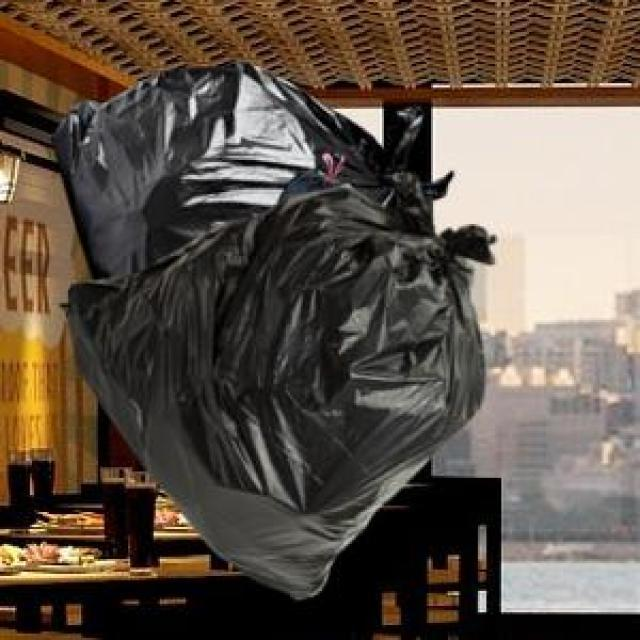waste: (54, 65, 491, 598)
